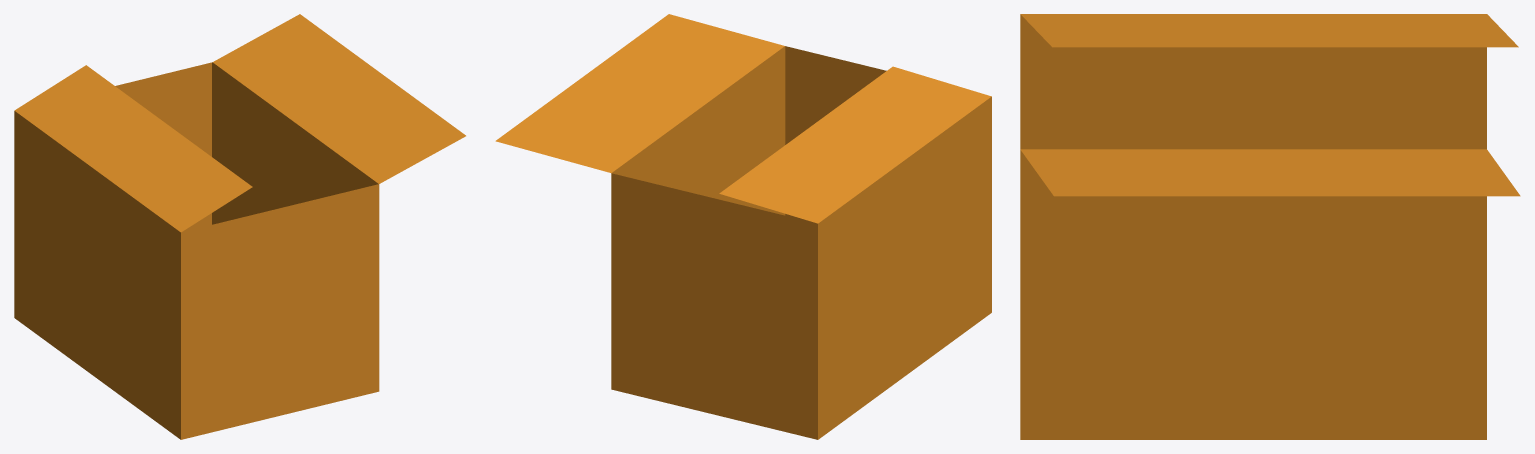
The picture shows the model from 3 angles, left to right: view 1: azimuth 30°, elevation 25°; view 2: azimuth 150°, elevation 25°; view 3: azimuth 270°, elevation 25°; orthographic projection. The views are drawn at different scales.
Visible parts, largest first — view 1: Cube; view 2: Cube; view 3: Cube.
Part boxes in pixels (x1=…): Cube: x1=14, y1=14, x2=465, y2=439; Cube: x1=495, y1=14, x2=991, y2=439; Cube: x1=1020, y1=14, x2=1520, y2=439.
Bounding box in the file's own units: 300 × 216 × 312.
